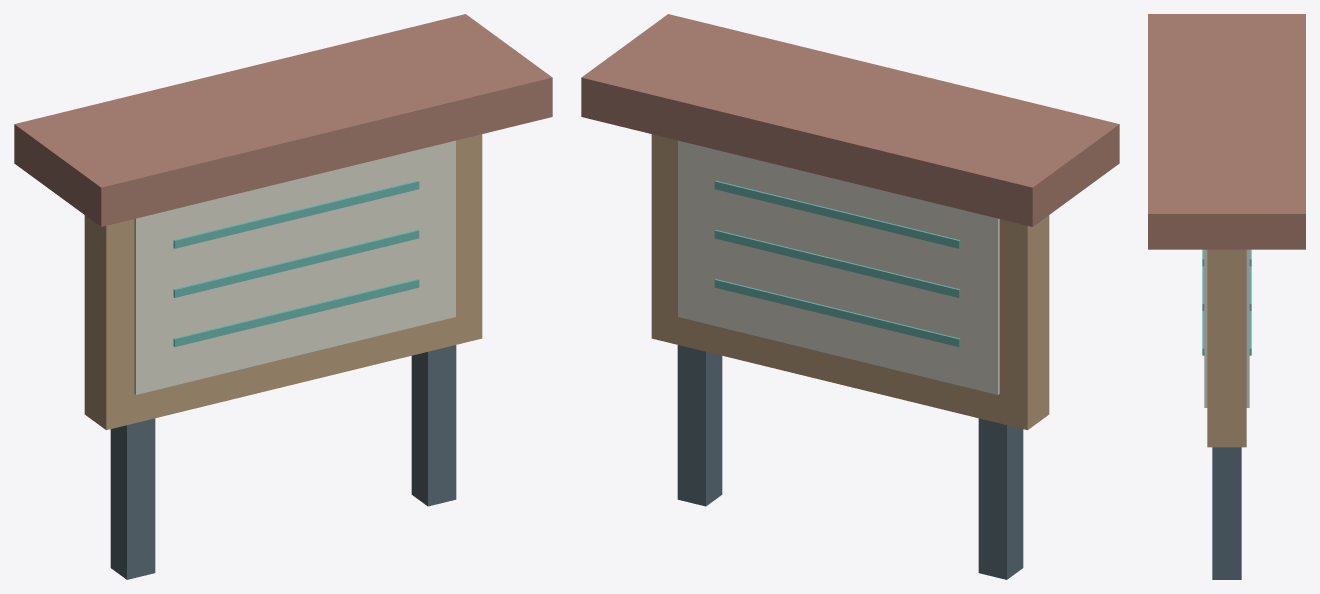
Rendered from voxel-city-districts-map-kiosk-02789644__24861.glb.
3 renders of one model, left to right at view 1: azimuth 30°, elevation 25°; view 2: azimuth 150°, elevation 25°; view 3: azimuth 270°, elevation 25°, orthographic. The views are drawn at different scales.
Visible parts, largest first — view 1: map-kiosk-roof, map-kiosk-concrete, map-kiosk-wood, map-kiosk-dark, map-kiosk-accent; view 2: map-kiosk-roof, map-kiosk-concrete, map-kiosk-wood, map-kiosk-dark, map-kiosk-accent; view 3: map-kiosk-roof, map-kiosk-wood, map-kiosk-dark, map-kiosk-concrete, map-kiosk-accent.
Boxes of the visible parts, bbox=[...] form: map-kiosk-roof: bbox=[14, 14, 552, 226]; map-kiosk-concrete: bbox=[134, 140, 455, 394]; map-kiosk-wood: bbox=[84, 134, 482, 430]; map-kiosk-dark: bbox=[110, 345, 456, 579]; map-kiosk-accent: bbox=[173, 180, 419, 346]; map-kiosk-roof: bbox=[581, 14, 1119, 226]; map-kiosk-concrete: bbox=[678, 140, 999, 394]; map-kiosk-wood: bbox=[651, 134, 1049, 430]; map-kiosk-dark: bbox=[677, 345, 1023, 579]; map-kiosk-accent: bbox=[714, 180, 960, 346]; map-kiosk-roof: bbox=[1148, 14, 1305, 249]; map-kiosk-wood: bbox=[1207, 249, 1246, 447]; map-kiosk-dark: bbox=[1212, 447, 1241, 579]; map-kiosk-concrete: bbox=[1204, 249, 1249, 407]; map-kiosk-accent: bbox=[1202, 249, 1251, 355].
Bounding box in the file's own units: 2.4 × 2.2 × 0.7999.
